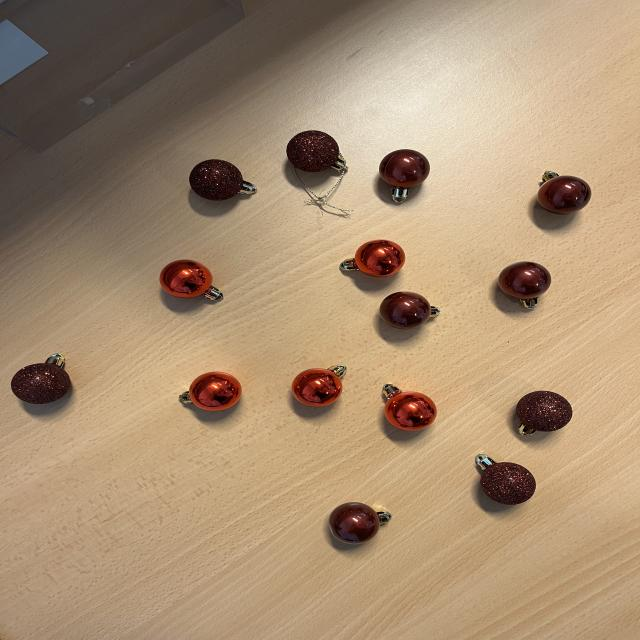glitter-bauble: (461, 447, 547, 509), (5, 348, 82, 408), (509, 385, 578, 442), (184, 154, 261, 205), (280, 128, 355, 180), (476, 454, 537, 505), (11, 353, 71, 404), (189, 159, 257, 201), (286, 130, 349, 173), (516, 391, 572, 435)
glossy-bauble: (370, 376, 440, 437), (167, 364, 247, 414), (153, 255, 227, 308), (286, 358, 353, 413), (332, 234, 410, 281), (382, 384, 437, 431), (159, 260, 223, 300), (339, 240, 406, 277), (179, 372, 242, 411), (292, 365, 346, 407)
wine-red-bauble: (371, 143, 436, 208), (525, 164, 597, 222), (491, 258, 557, 316), (318, 496, 394, 546), (373, 287, 442, 332), (379, 150, 430, 203), (329, 502, 392, 544), (498, 261, 551, 310), (379, 291, 441, 330), (537, 171, 592, 214)
